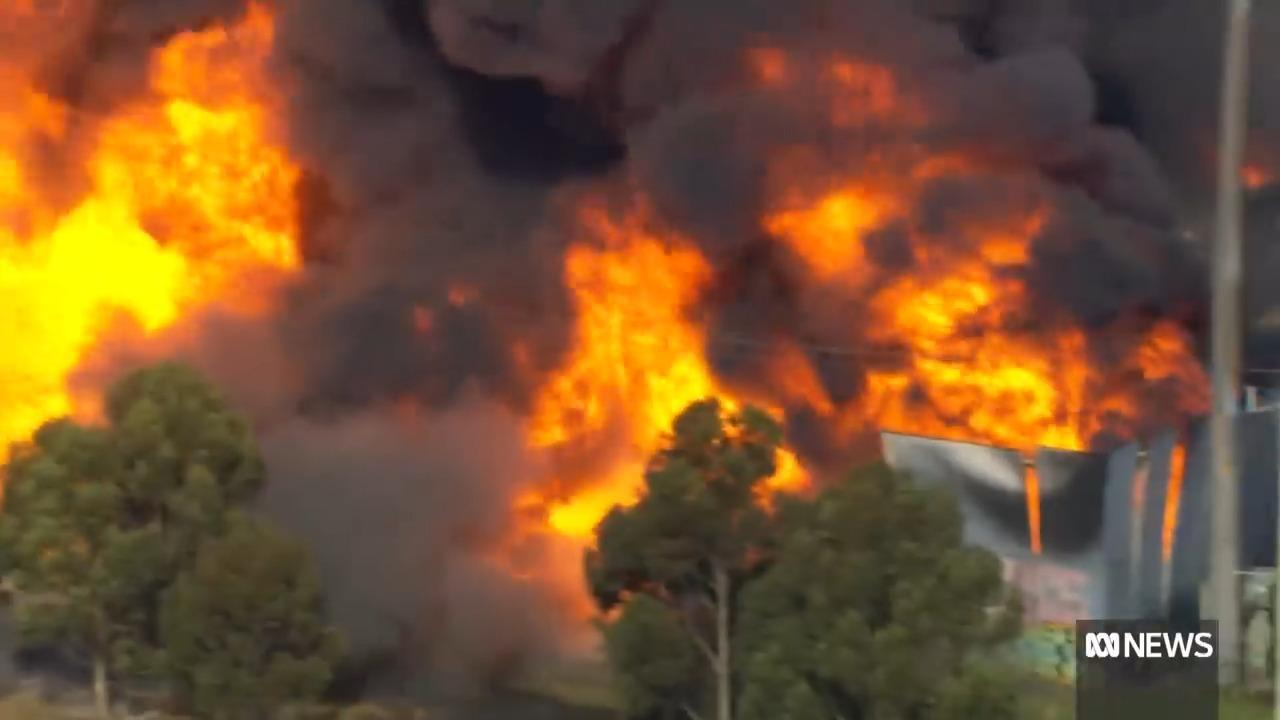fire: (764, 41, 1174, 480), (0, 14, 301, 443), (541, 213, 816, 552)
